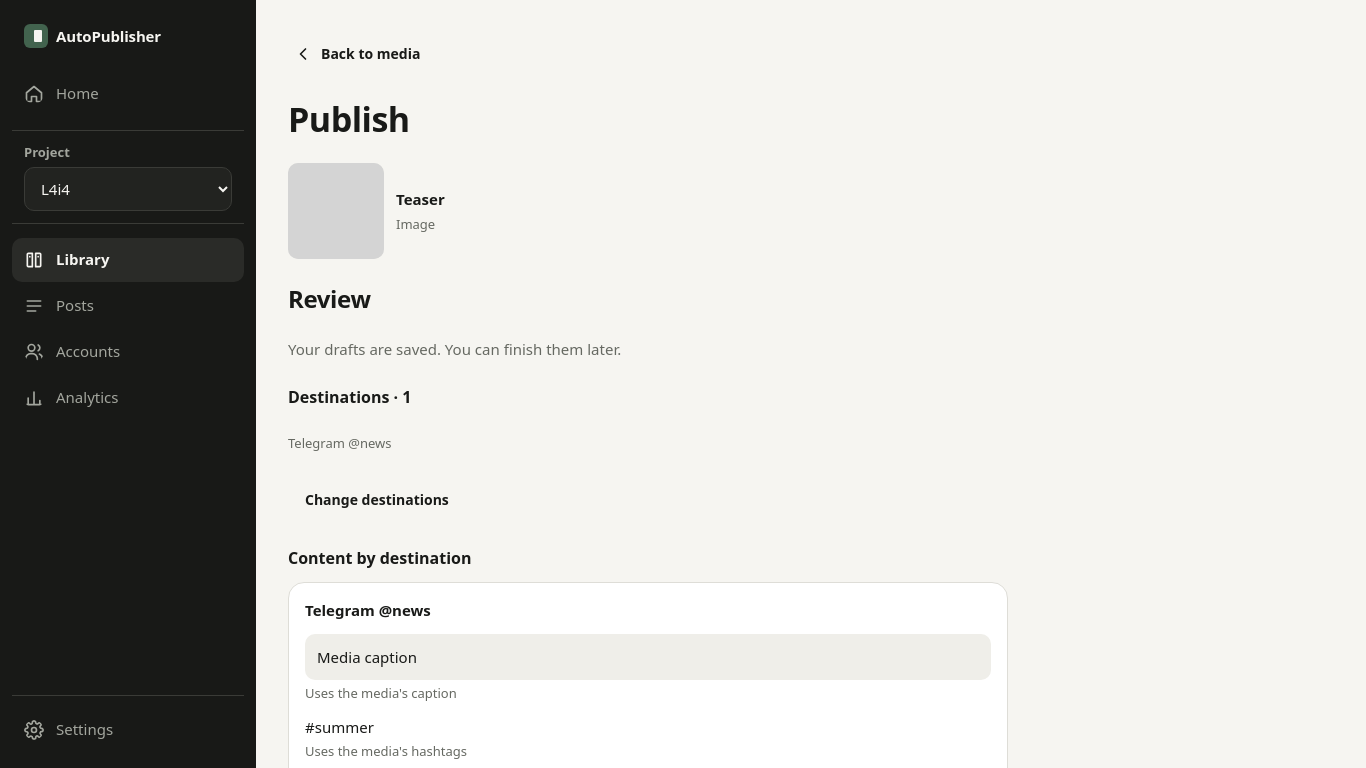
Test: removes after confirming, and re-adding without a reload reactivates exactly that Post
Expected: the heading "Publish" is shown, x1=288 y1=96 x2=410 y2=142
Expected: the heading "Review" is shown, x1=288 y1=282 x2=371 y2=315
Click the button "Change destinations" at (377, 500), box x1=288 y1=478 x2=466 y2=522
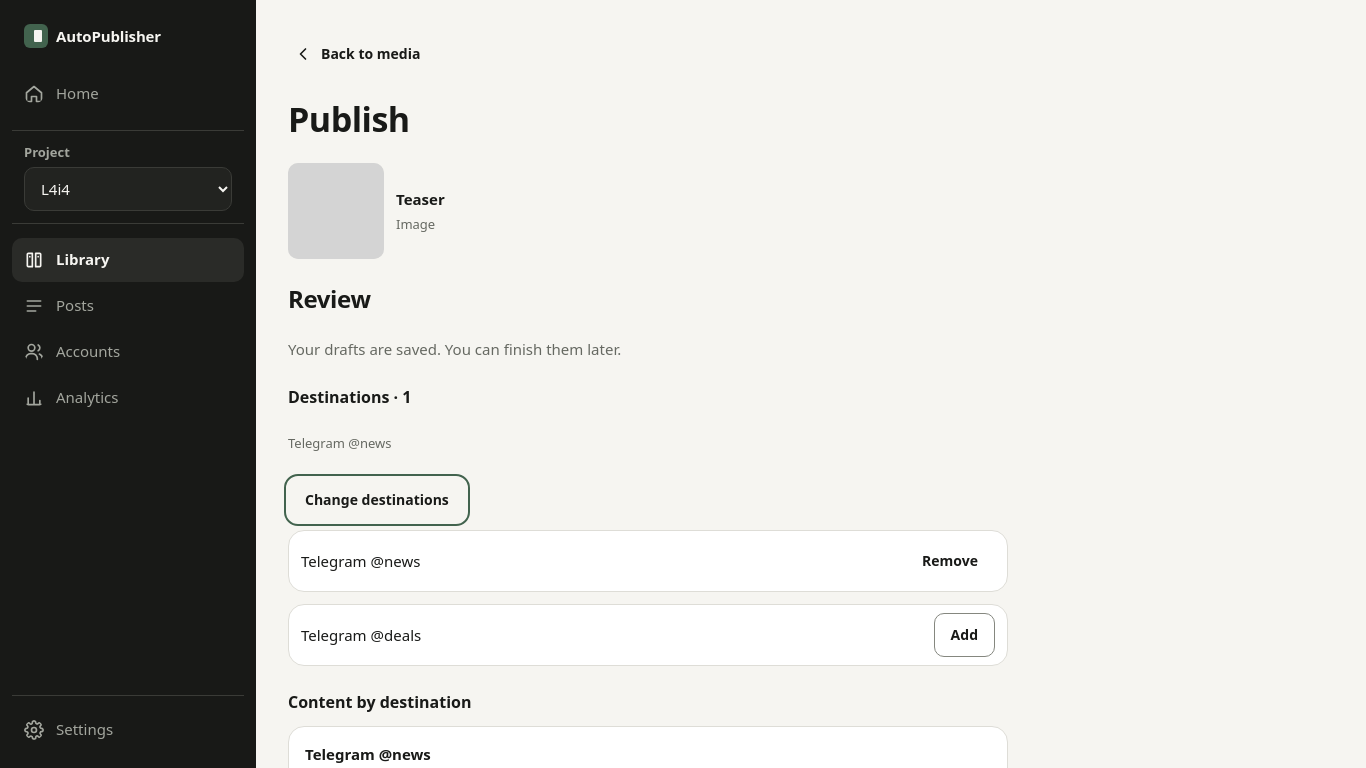
Click the button with aria-label "Remove Telegram @news" at (950, 561), box x1=905 y1=539 x2=995 y2=583
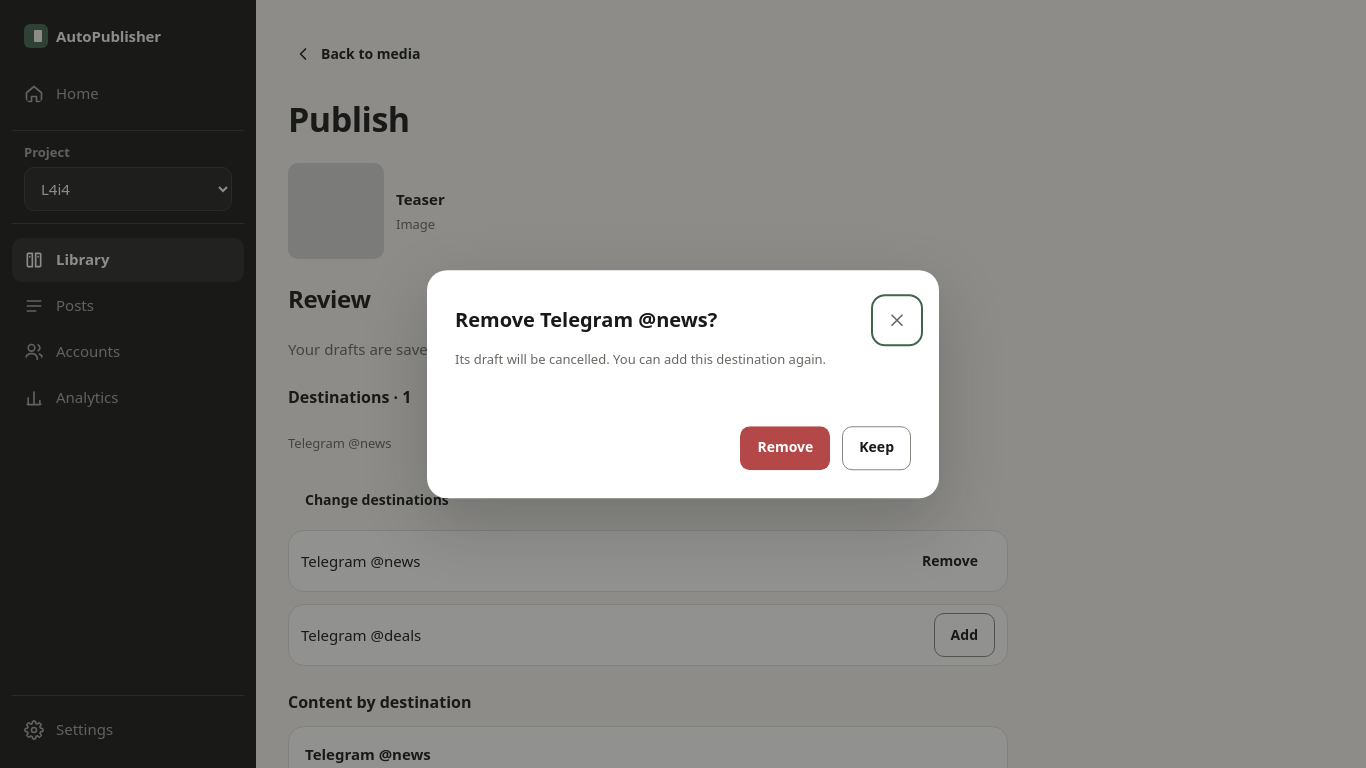
Click the button "Remove" at (785, 448), box x1=740 y1=426 x2=830 y2=470
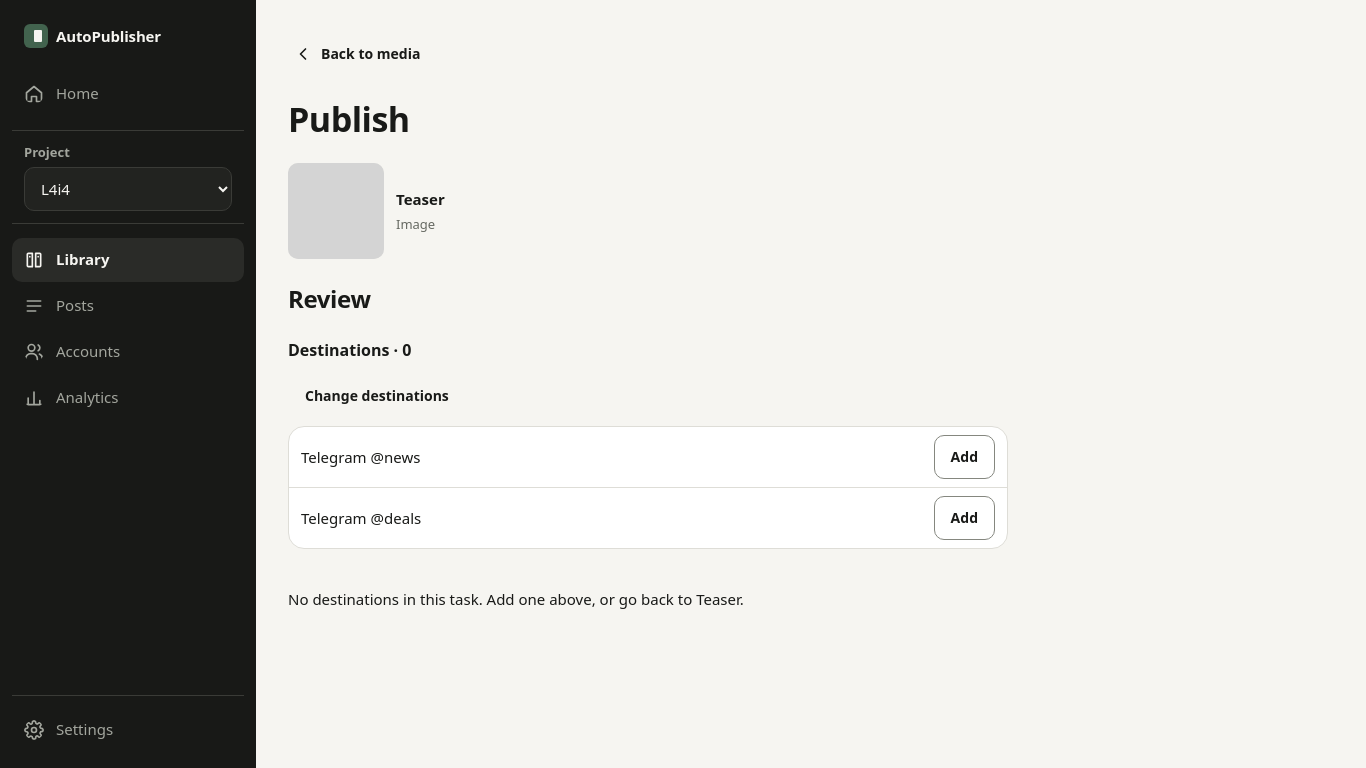
Expected: the heading "Destinations · 0" is shown, x1=288 y1=339 x2=412 y2=361
Click the button with aria-label "Add Telegram @news" at (964, 457), box x1=934 y1=435 x2=995 y2=479
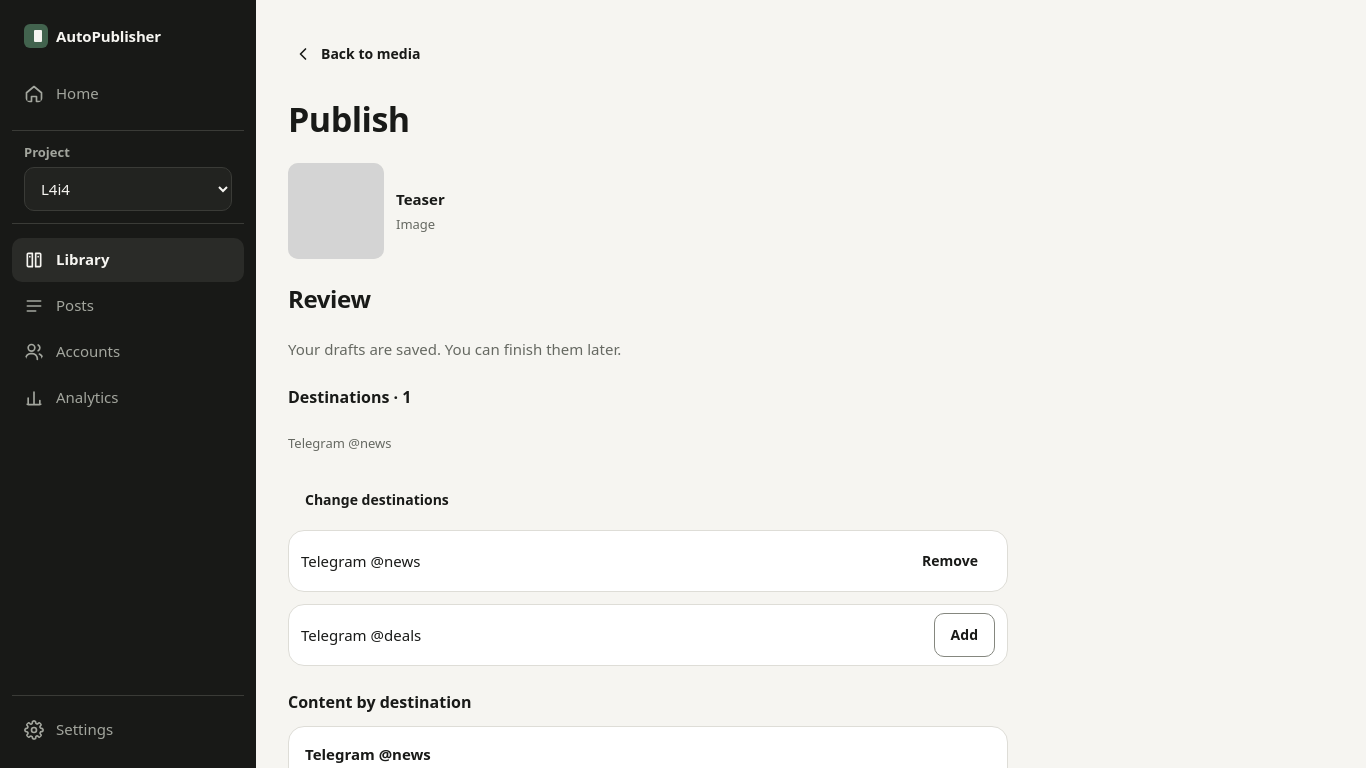
Expected: the heading "Destinations · 1" is shown, x1=288 y1=386 x2=412 y2=408
